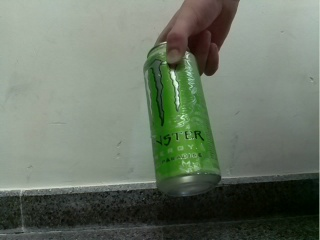botella plastico: (142, 40, 222, 197)
